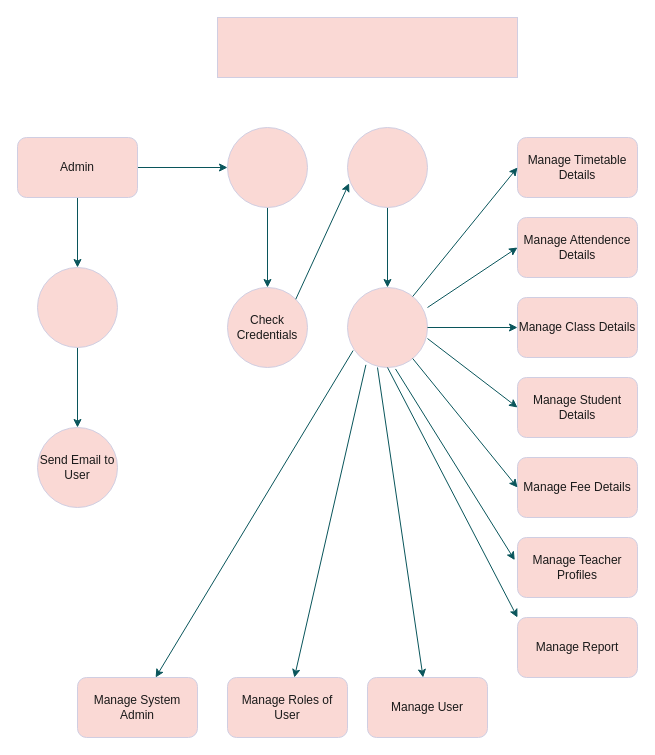
Image size: 655x755. Some labels were removed from this diagram. Here are the shapes that lost their labels. From the top down, the centre of each, then its label:
At (x=367, y=47): "Student Information System".
At (x=267, y=167): "Login to system".
At (x=387, y=167): "Check Roles of Access".
At (x=77, y=307): "Forget Password".
At (x=387, y=327): "Manage Modules".
